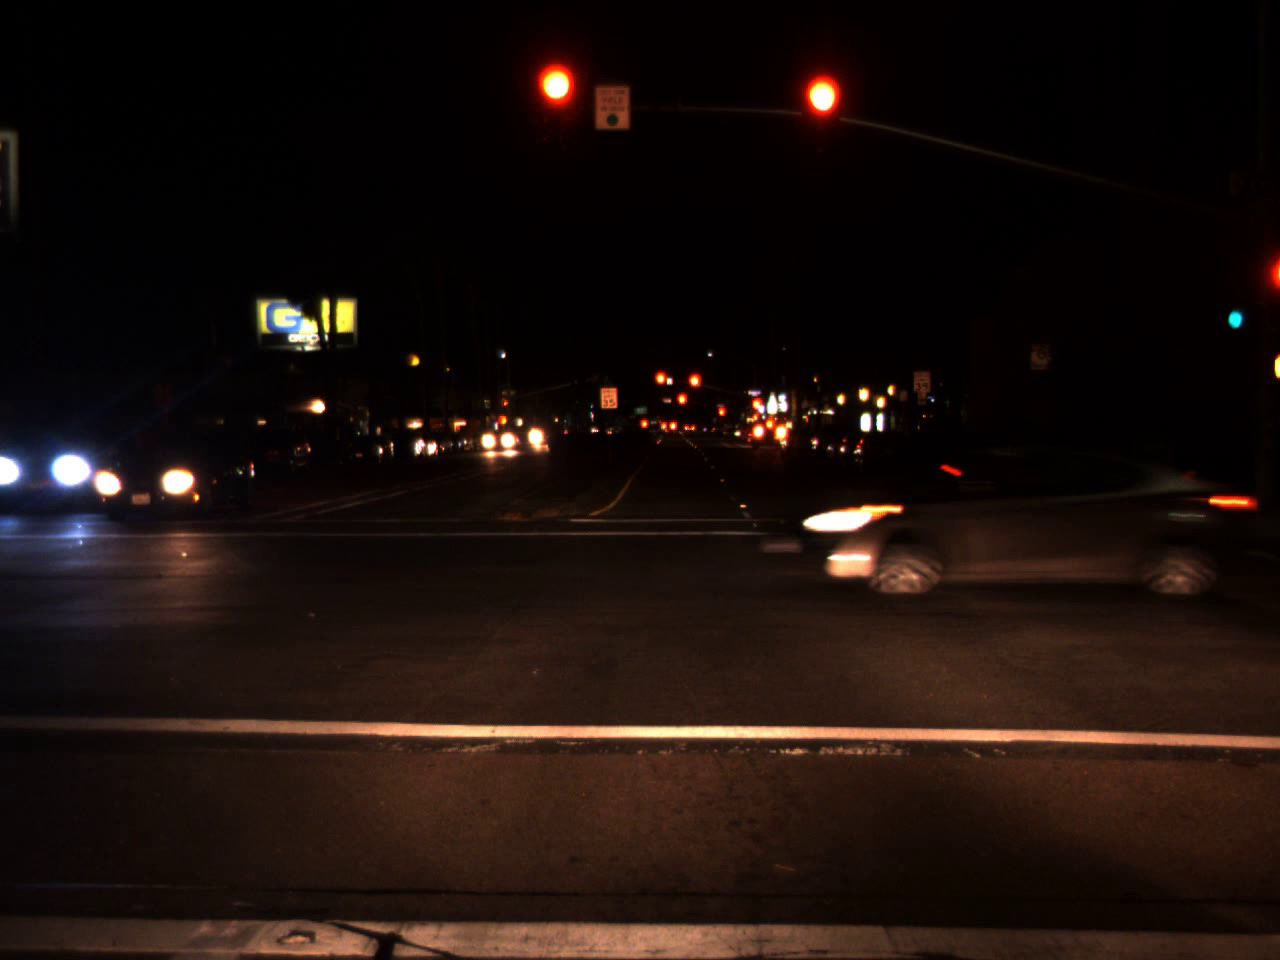stop: (537, 66, 577, 144), (801, 74, 841, 152), (653, 369, 669, 401), (686, 371, 702, 403), (675, 391, 688, 418), (749, 396, 764, 414), (717, 406, 726, 424), (503, 401, 509, 411)
